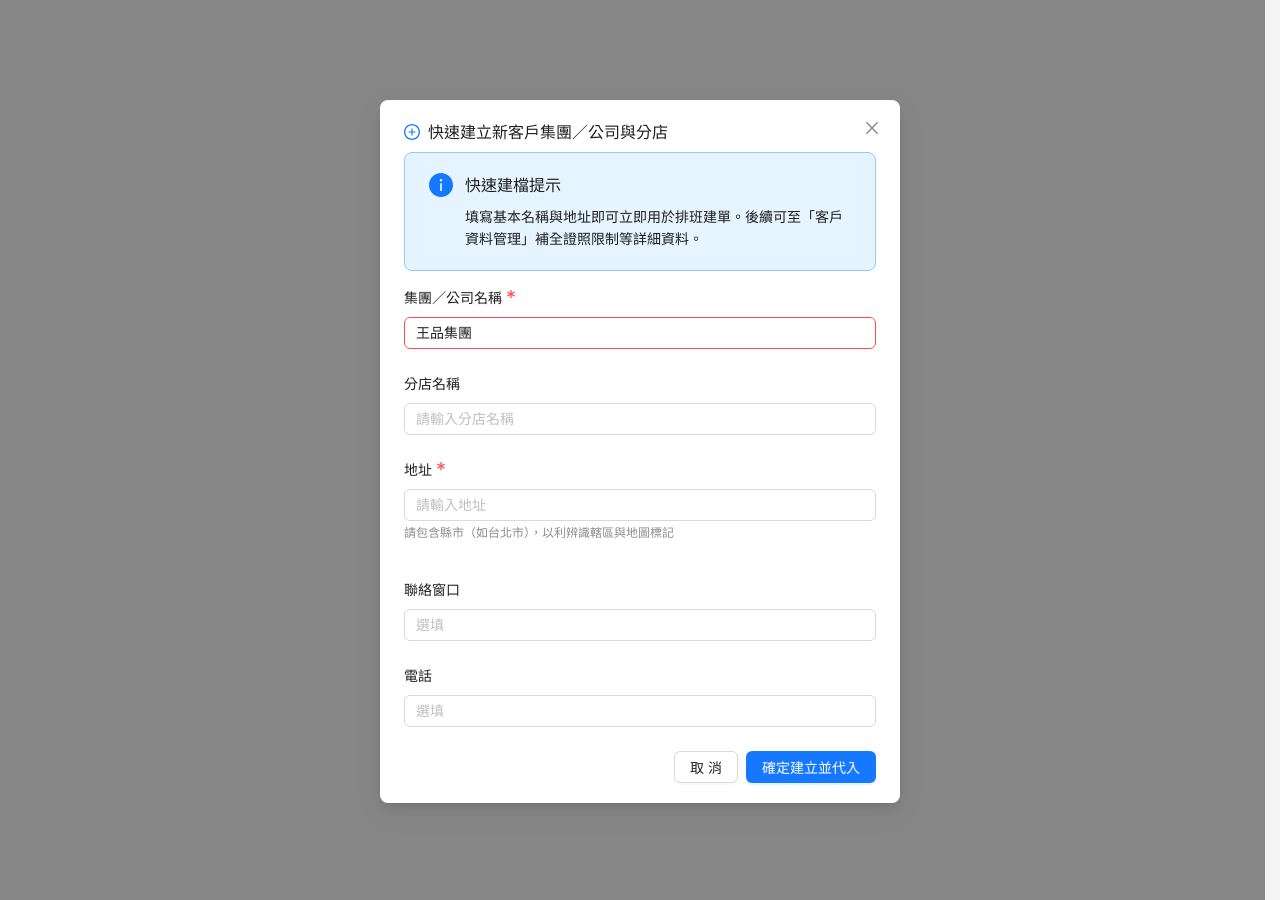
Test case: QuickCreateCustomerModal › detects and shows region when address is typed
Type "新竹市科學園區研新二路1號" into the field with test id "quick-create-address" at (640, 505), box [404,489,876,521]
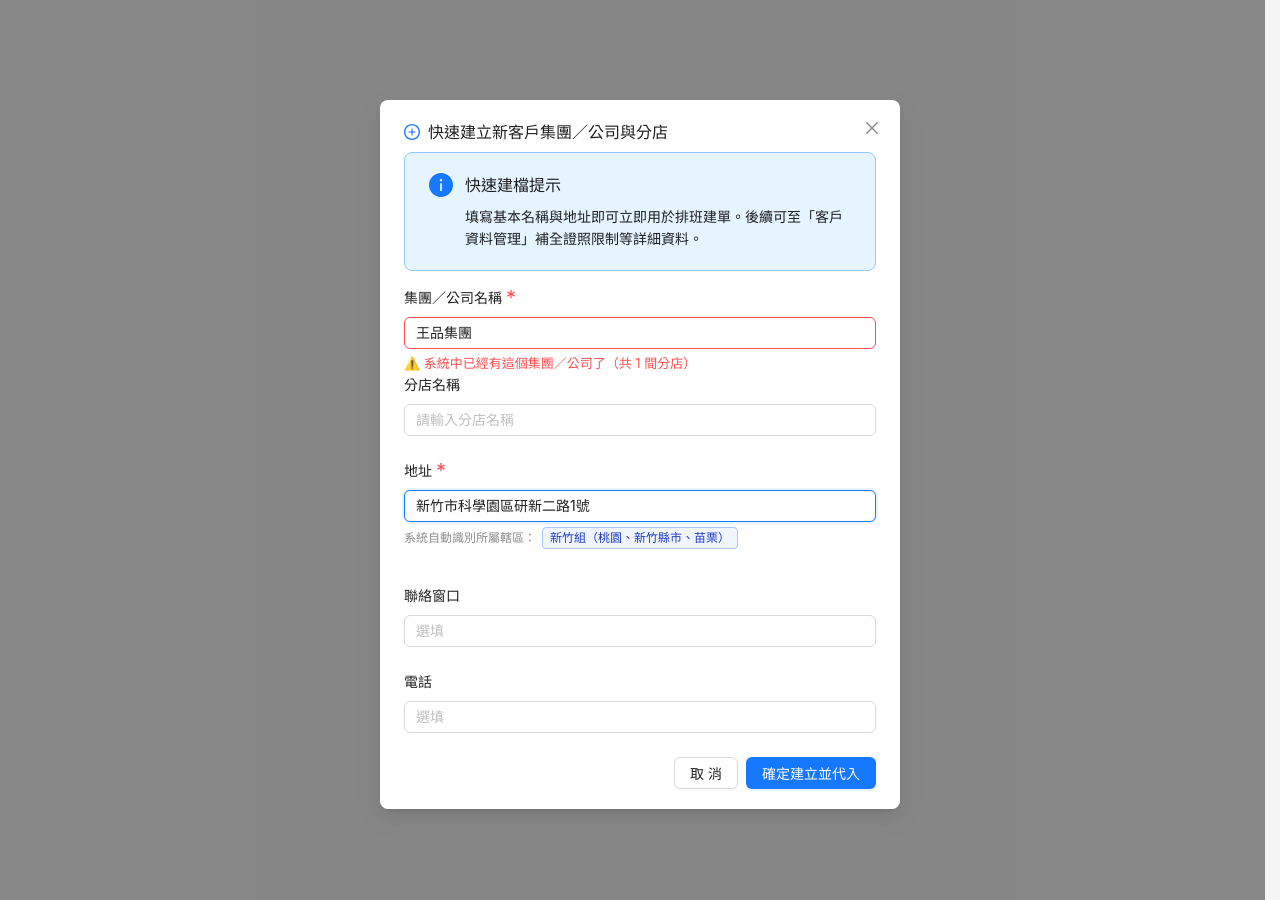
Expected: the text "新竹組（桃園、新竹縣市、苗栗）" is shown, [542,527,738,549]
